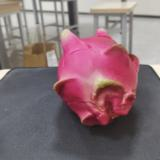pitaya: (58, 28, 137, 125)
